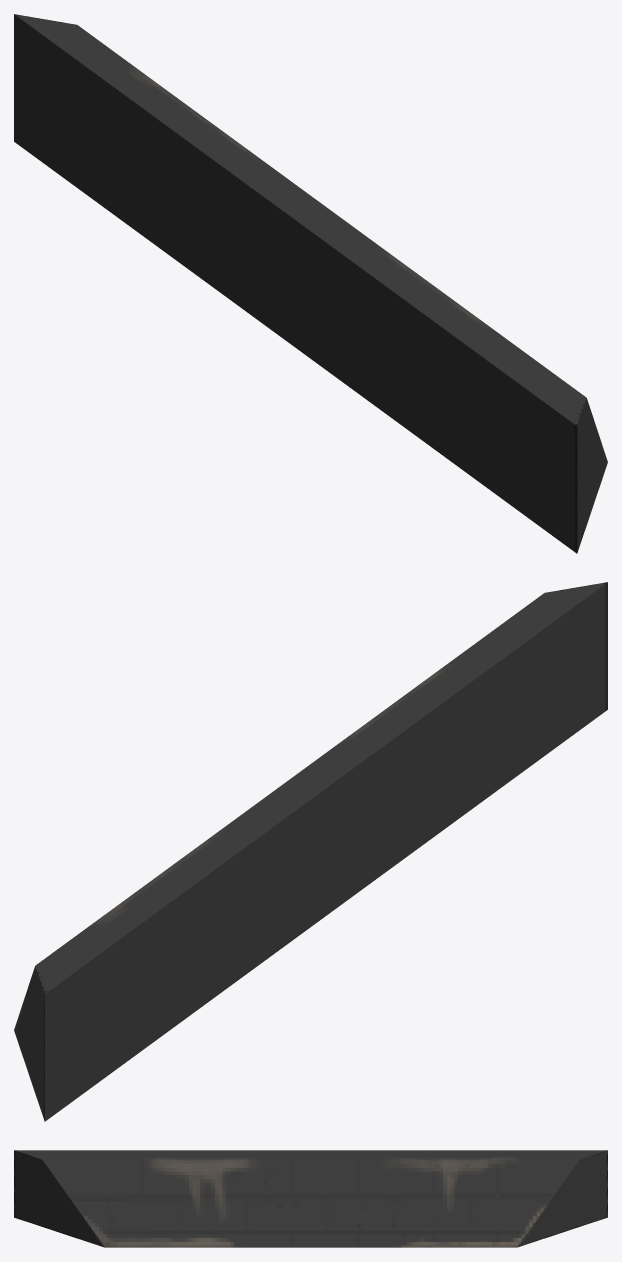
Rendered from Wall_Horizontal2.fbx.
3 views of the same model, one above another, from view 1: azimuth 30°, elevation 25°; view 2: azimuth 150°, elevation 25°; view 3: azimuth 270°, elevation 25° (orthographic). The views are drawn at different scales.
Visible parts, largest first — view 1: Wall_Blank_East; view 2: Wall_Blank_East; view 3: Wall_Blank_East.
Part boxes in pixels (x1,y1,x2,y2): Wall_Blank_East: (14,14,607,553); Wall_Blank_East: (14,582,607,1121); Wall_Blank_East: (14,1150,607,1247).
Bounding box in the file's own units: 288 × 300 × 2400.
Materials: 1 (1 with a texture image).
